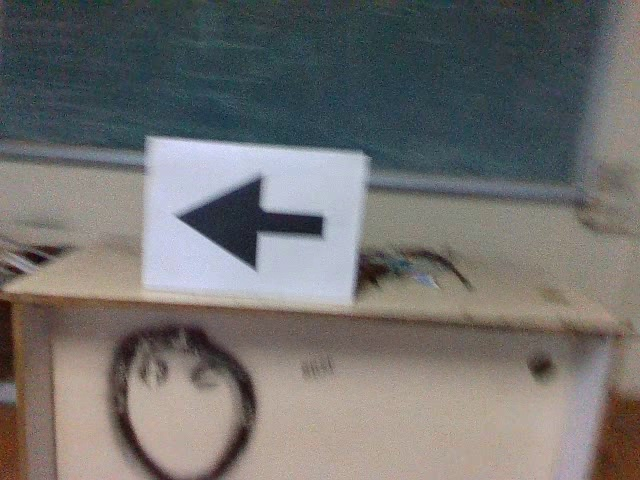Left: (167, 163, 332, 273)
